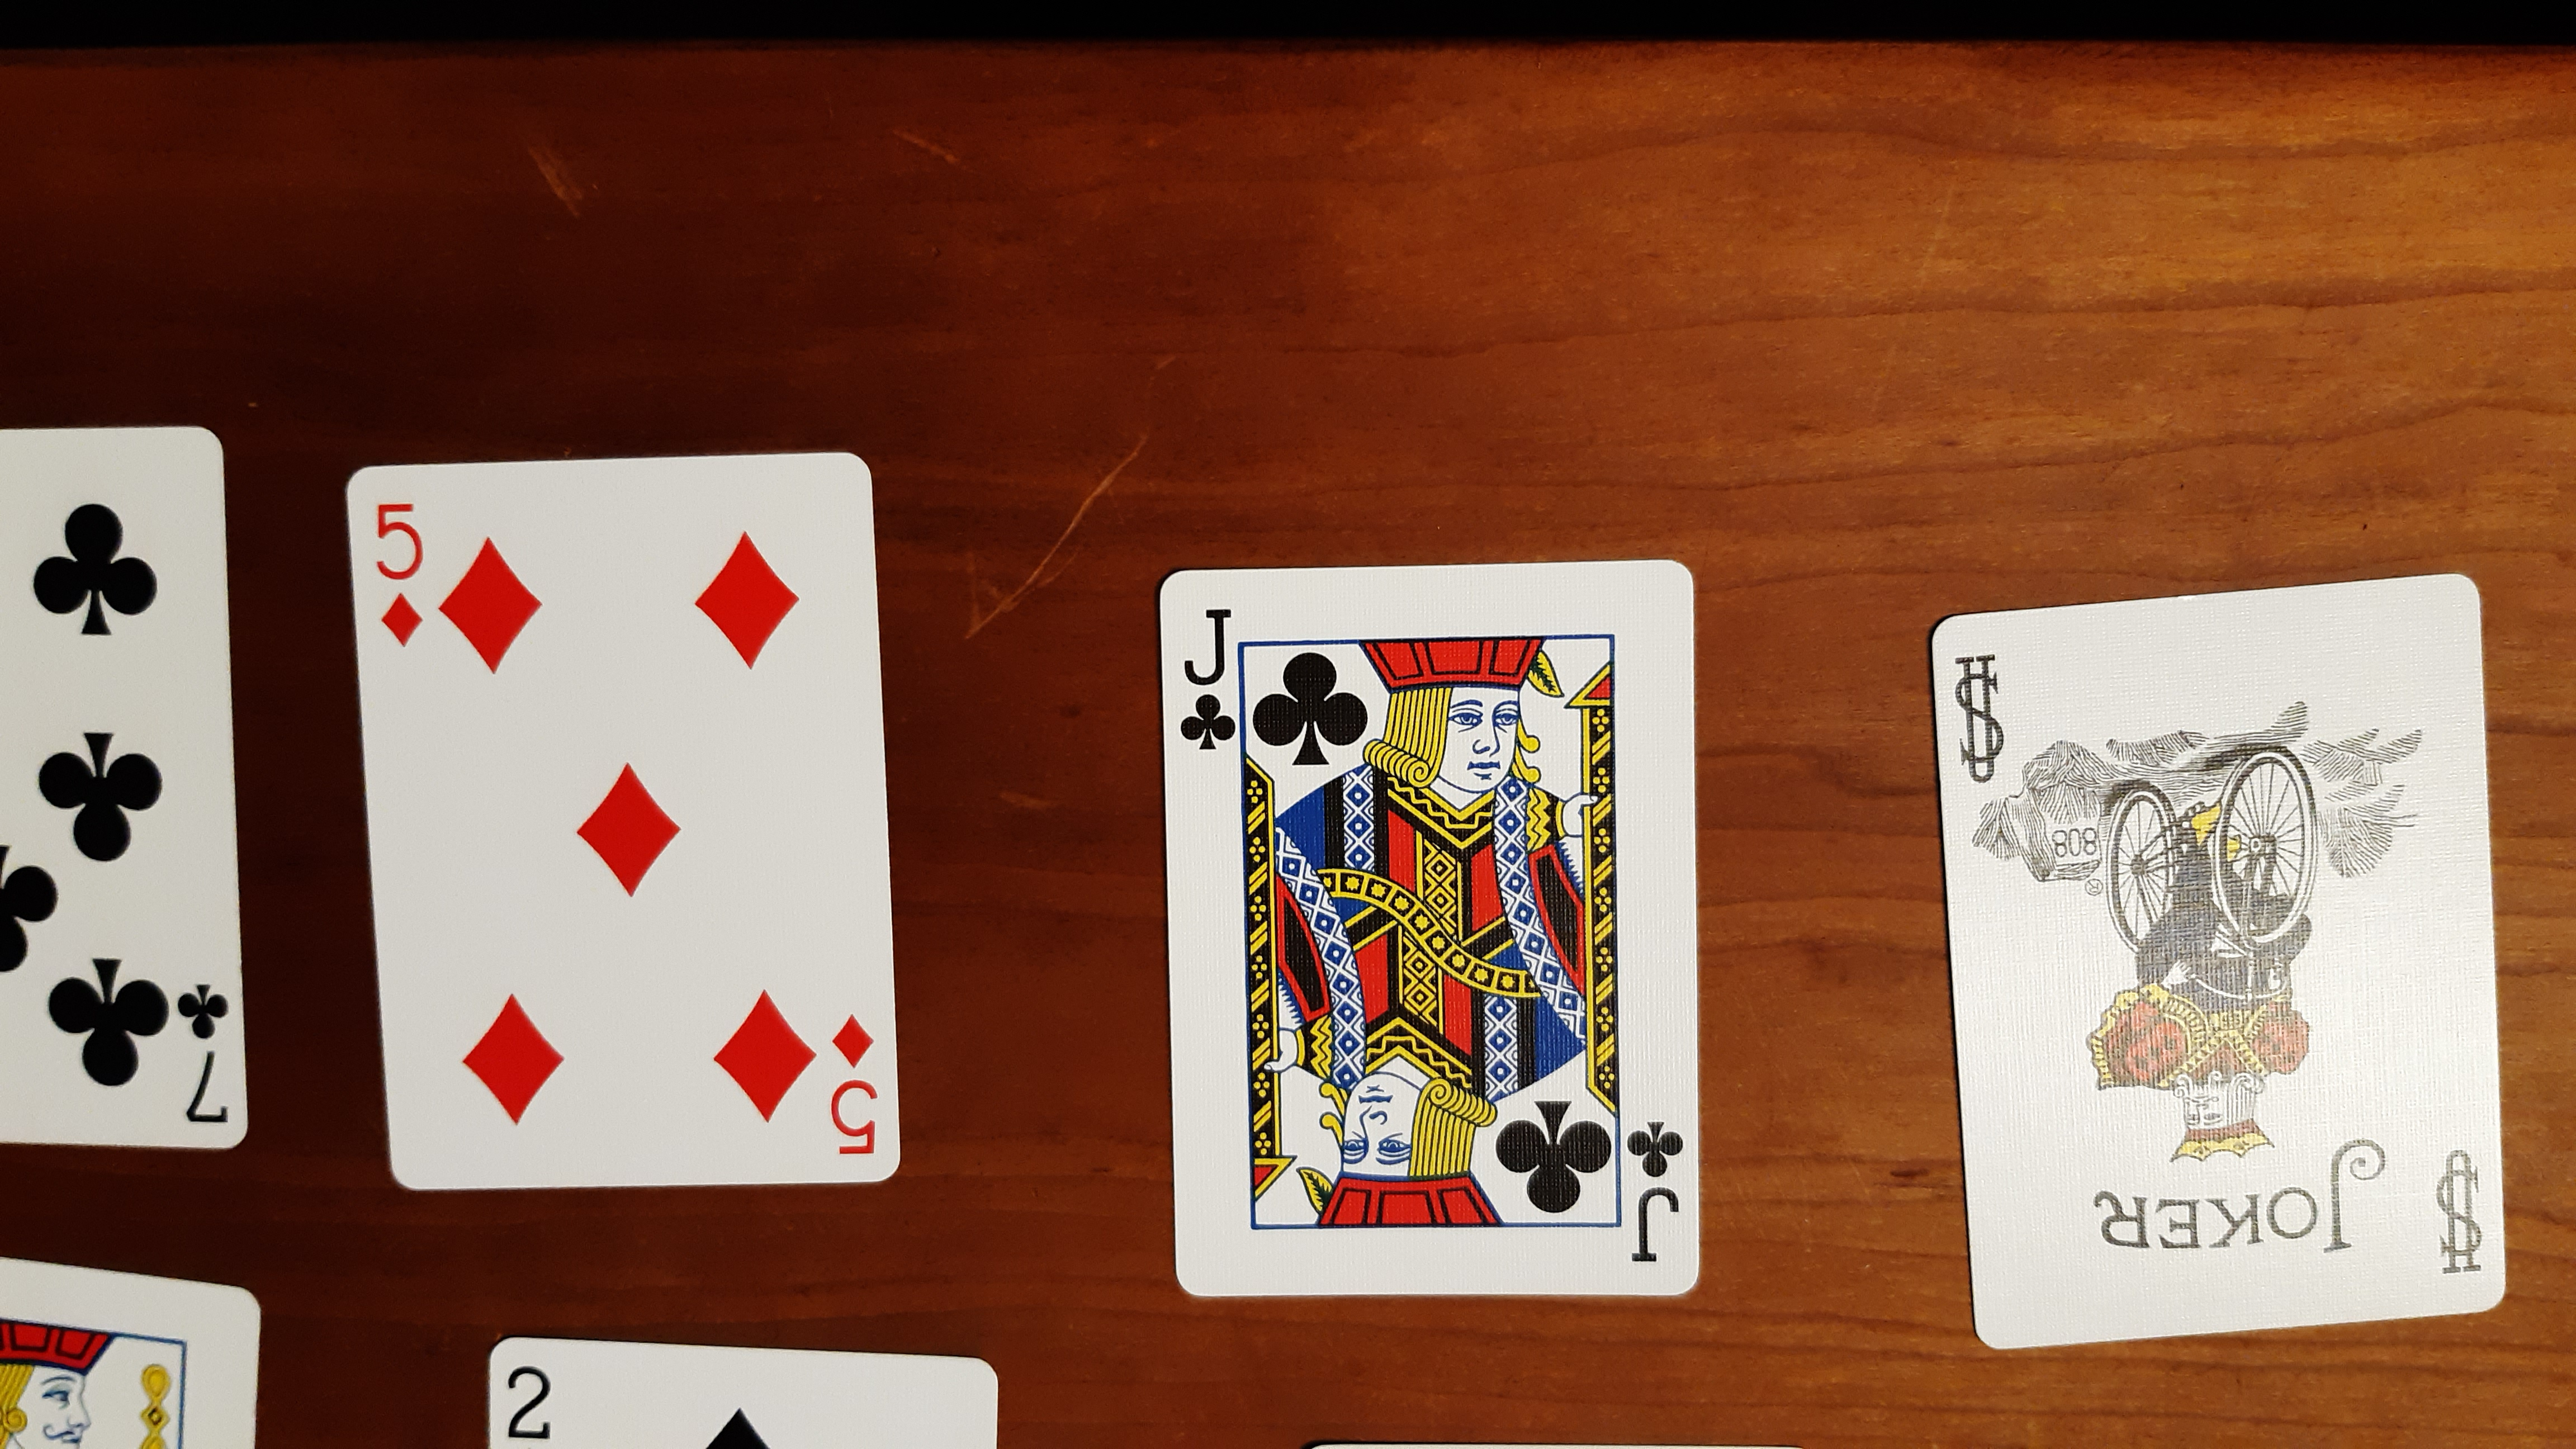Black_Club_7: (166, 973, 244, 1131)
Black_Club_Jack: (1622, 1113, 1690, 1276), (1175, 596, 1240, 757)
Joker: (2084, 1132, 2392, 1267)
Red_Diamond_5: (817, 1007, 881, 1171), (366, 495, 430, 656)
